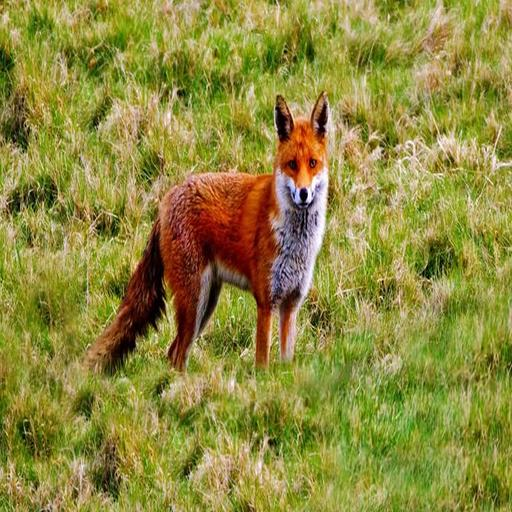Fox: (82, 81, 384, 405)
